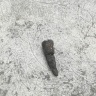Dog: (40, 38, 59, 77)
